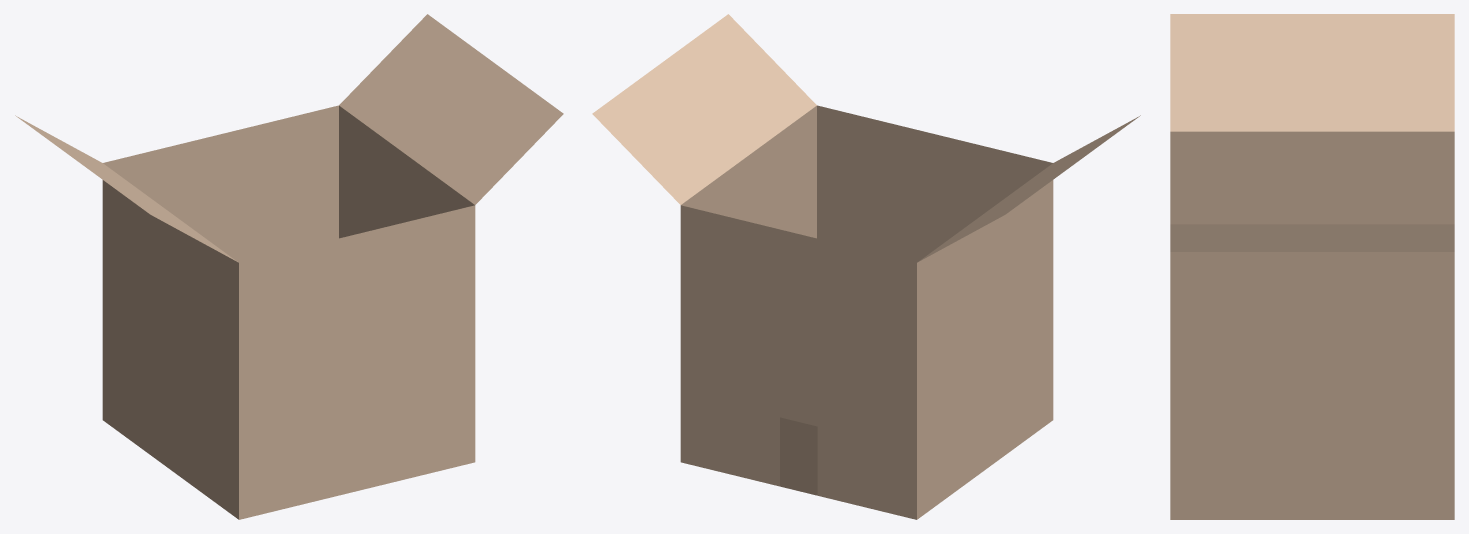
The model's file is box_open.glb.
The picture shows the model from 3 angles, left to right: view 1: azimuth 30°, elevation 25°; view 2: azimuth 150°, elevation 25°; view 3: azimuth 270°, elevation 25°; orthographic projection. The views are drawn at different scales.
Visible parts, largest first — view 1: cardboardBoxOpen(Clone); view 2: cardboardBoxOpen(Clone); view 3: cardboardBoxOpen(Clone).
Boxes of the visible parts, x1=… form: cardboardBoxOpen(Clone): x1=15, y1=14, x2=563, y2=519; cardboardBoxOpen(Clone): x1=592, y1=14, x2=1140, y2=519; cardboardBoxOpen(Clone): x1=1170, y1=14, x2=1454, y2=519.
Size of the model in its own units: 0.7809 by 0.5901 by 0.4463.
